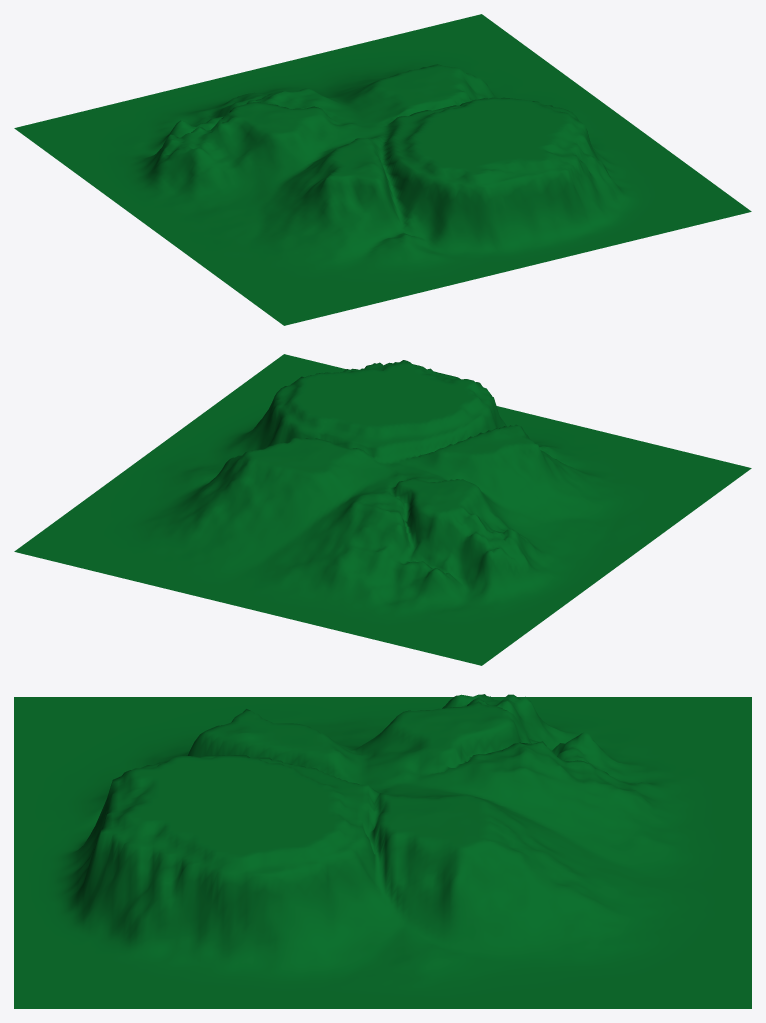
File: near_island_lighthouse.glb
The picture shows the model from 3 angles, top to bottom: view 1: azimuth 30°, elevation 25°; view 2: azimuth 150°, elevation 25°; view 3: azimuth 270°, elevation 25°; orthographic projection. The views are drawn at different scales.
Visible parts, largest first — view 1: Landscape.004; view 2: Landscape.004; view 3: Landscape.004.
Part boxes in pixels (left/top/right/bottom): Landscape.004: left=14, top=14, right=751, bottom=325; Landscape.004: left=14, top=354, right=751, bottom=665; Landscape.004: left=14, top=694, right=751, bottom=1008.
Bounding box in the file's own units: 2 × 0.25 × 2.
